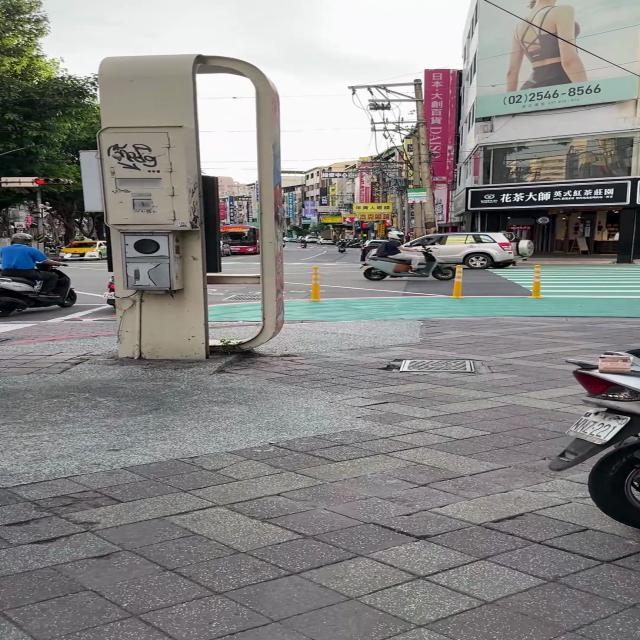Flexible_delineator_post: (529, 265, 543, 299), (309, 266, 322, 301), (452, 265, 463, 299)
bus: (221, 225, 260, 253)
car: (408, 232, 534, 269), (57, 240, 108, 260)
crosswalk: (540, 265, 640, 299), (484, 265, 534, 292)
motocycle: (549, 349, 640, 528), (0, 264, 77, 316)
